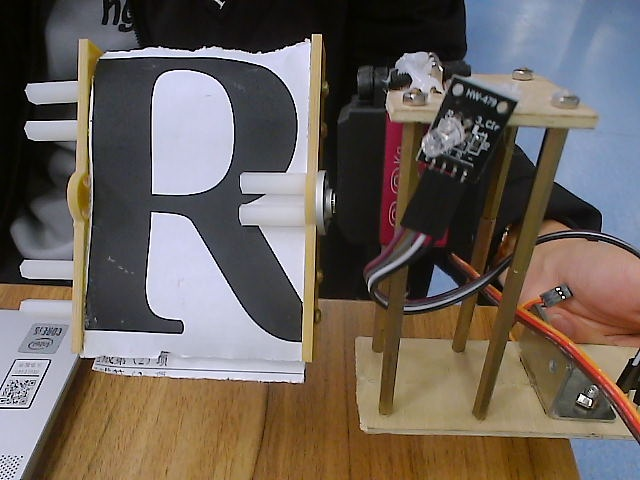R: (13, 9, 374, 402)
